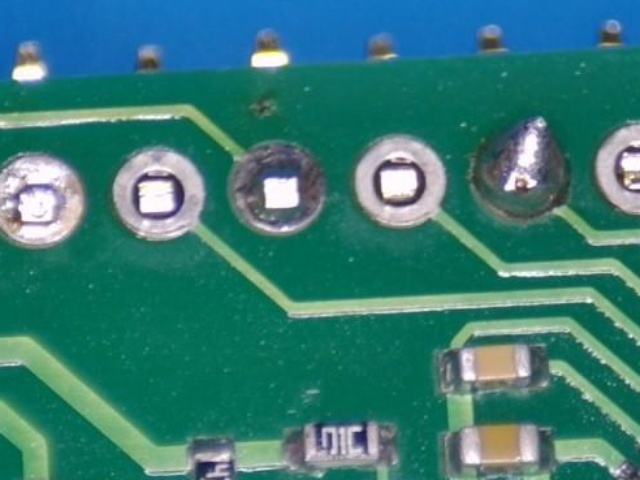pcb_defect: (475, 116, 566, 216), (233, 143, 324, 233)
